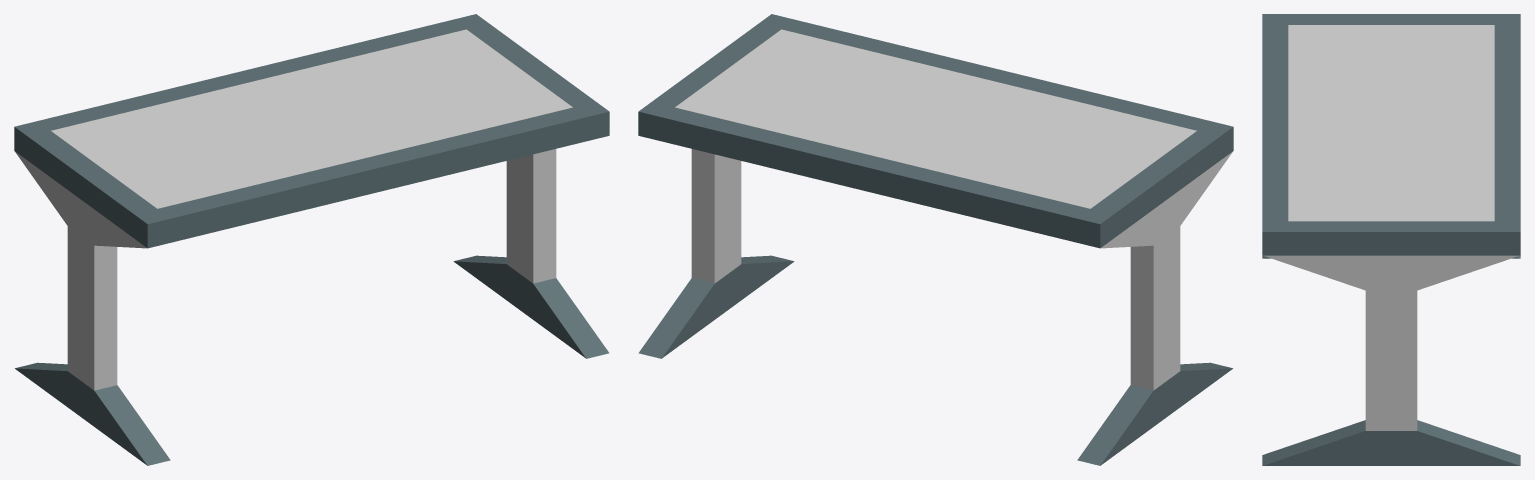
File: scifi_table.fbx
3 renders of one model, left to right at view 1: azimuth 30°, elevation 25°; view 2: azimuth 150°, elevation 25°; view 3: azimuth 270°, elevation 25°, orthographic. The views are drawn at different scales.
Parts seen in each view (by area): view 1: Cube.053; view 2: Cube.053; view 3: Cube.053.
Boxes of the visible parts, box(x1,y1,x2,y2) form: Cube.053: box(14, 14, 609, 465); Cube.053: box(638, 14, 1233, 465); Cube.053: box(1262, 14, 1520, 465).
Size of the model in its own units: 2 by 1 by 1.
